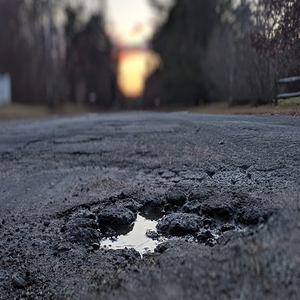pothole: (54, 193, 269, 259)
